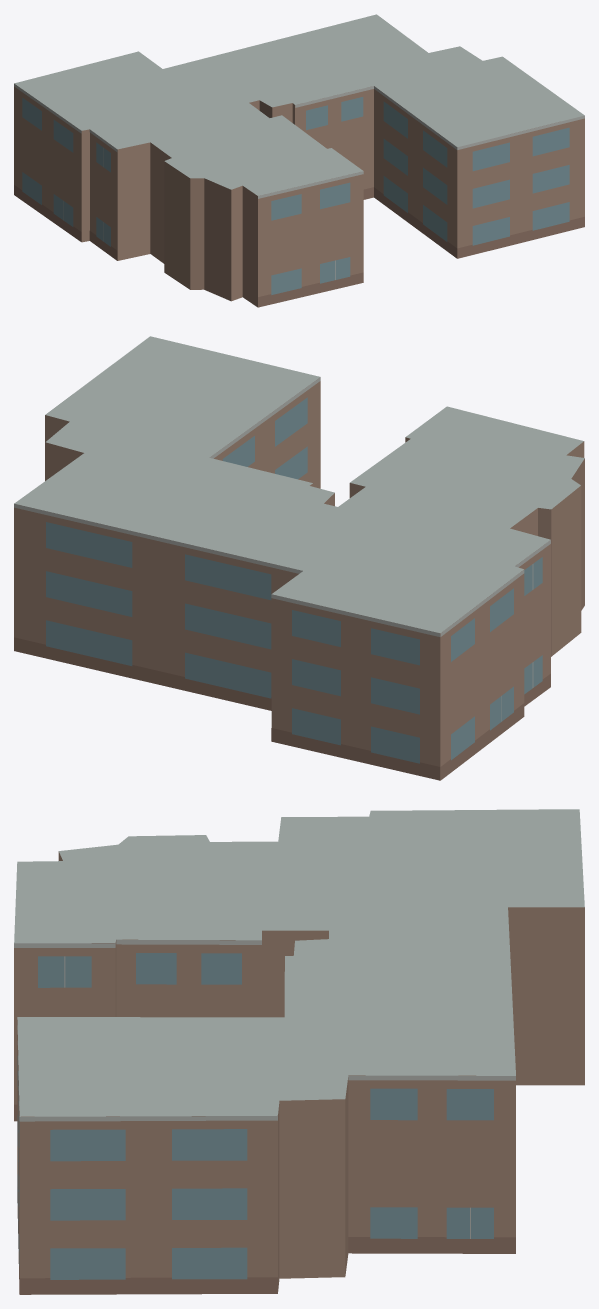
Rendered from survey-upis-32521557.glb.
3 views of the same model, one above another, from view 1: azimuth 30°, elevation 25°; view 2: azimuth 150°, elevation 25°; view 3: azimuth 270°, elevation 25° (orthographic). The views are drawn at different scales.
Visible parts, largest first — view 1: survey-upis-32521557.tmp; view 2: survey-upis-32521557.tmp; view 3: survey-upis-32521557.tmp.
Boxes of the visible parts, x1,y1,x2,y2 form: survey-upis-32521557.tmp: [14, 14, 584, 307]; survey-upis-32521557.tmp: [14, 336, 584, 780]; survey-upis-32521557.tmp: [14, 809, 584, 1294].
Size of the model in its own units: 33.93 by 9.15 by 26.6.
